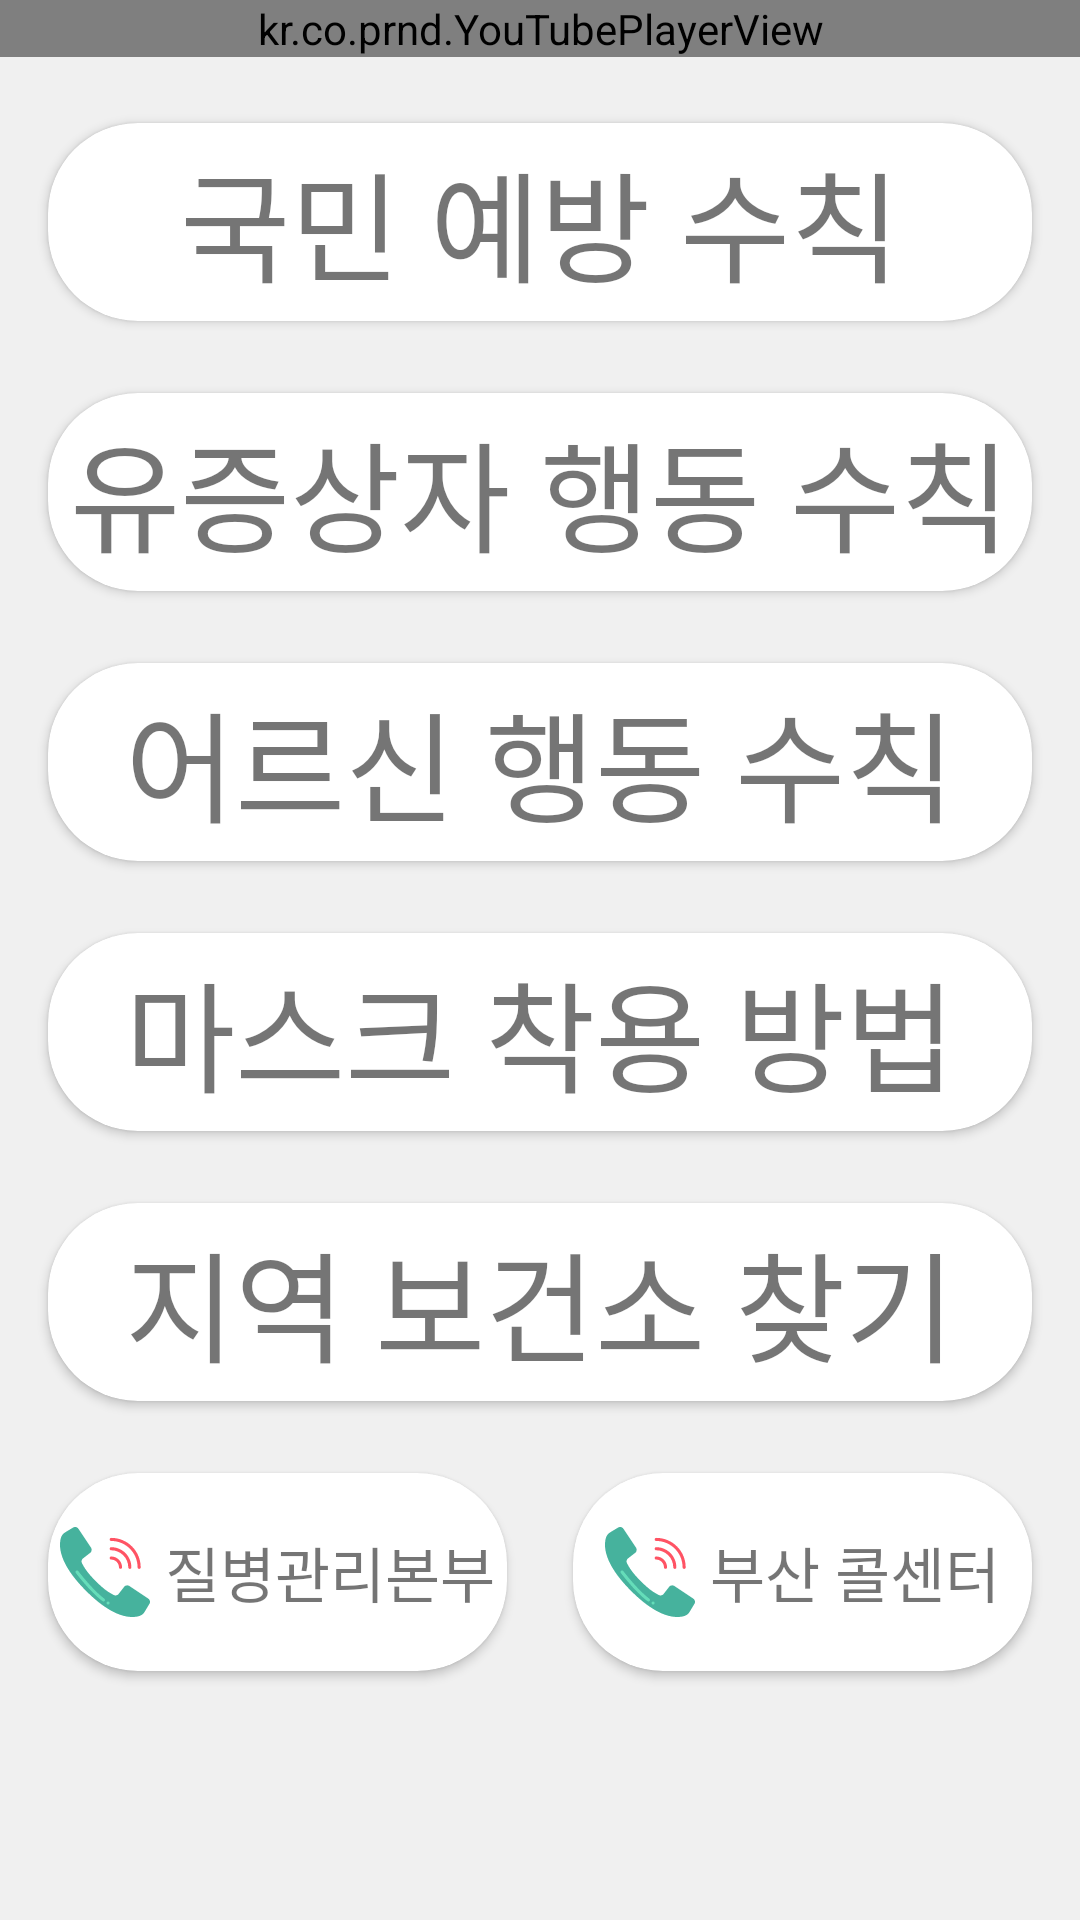

Icon click points for this 1080*1920 phone screenshot, format (x=x, y=y):
call: (x=105, y=1572), (x=650, y=1572)
